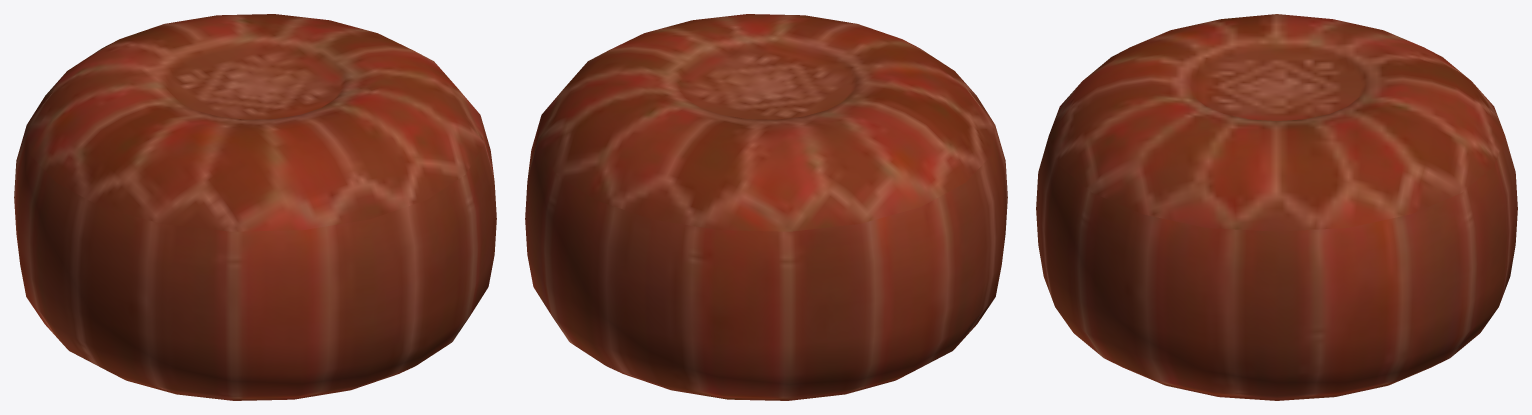
3 renders of one model, left to right at view 1: azimuth 30°, elevation 25°; view 2: azimuth 150°, elevation 25°; view 3: azimuth 270°, elevation 25°, orthographic.
Bounding box in the file's own units: 7.98 × 4.49 × 7.98.
Materials: 1 (1 with a texture image).
